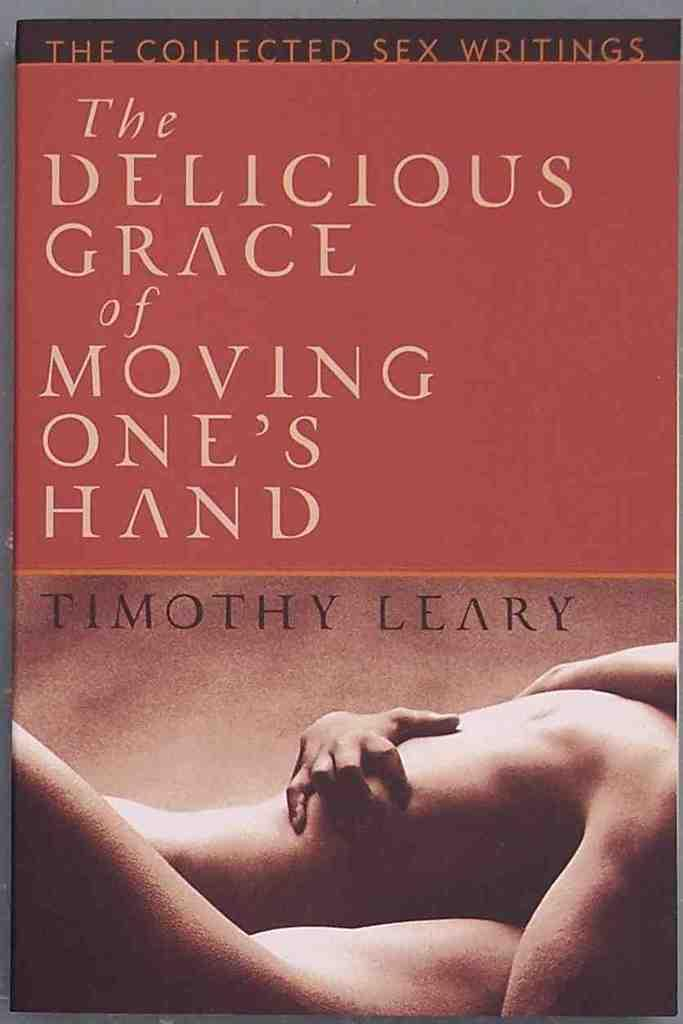book: (0, 17, 677, 1023)
